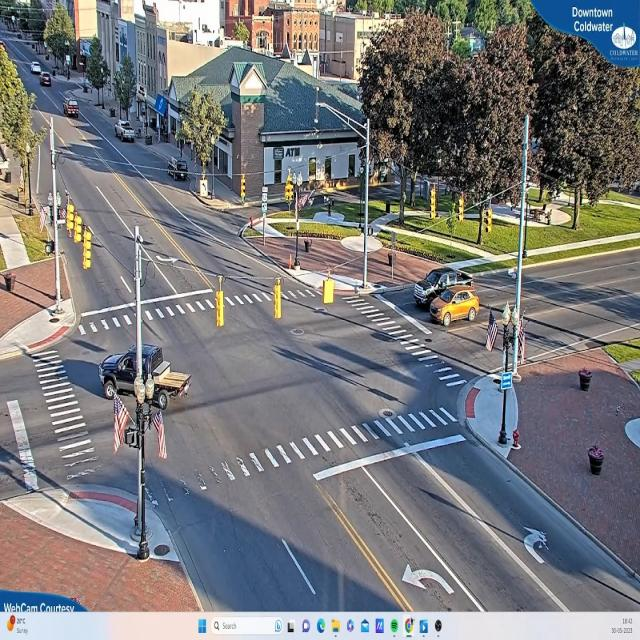car: (96, 348, 196, 407), (409, 262, 463, 305), (430, 284, 480, 328), (116, 123, 136, 143), (63, 96, 78, 118)
